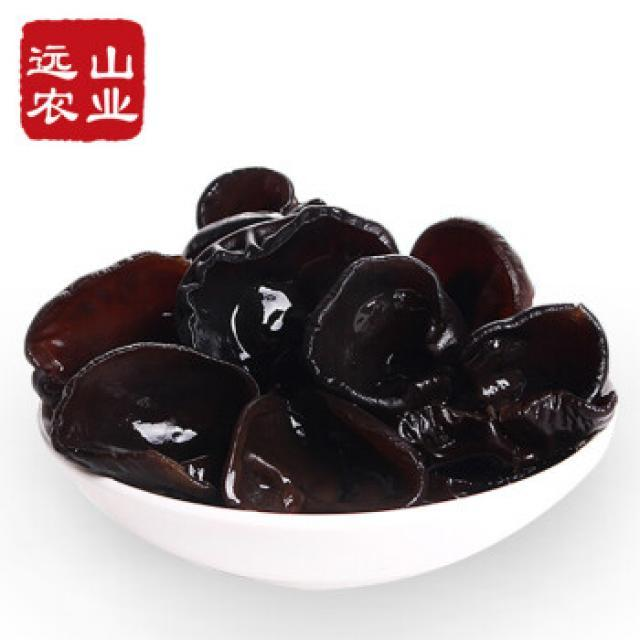Auricularia auricula: (30, 168, 617, 513)
